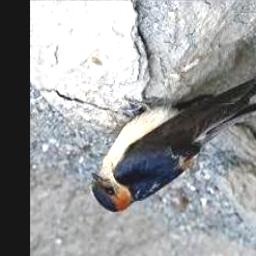Swallow: (91, 62, 256, 212)
